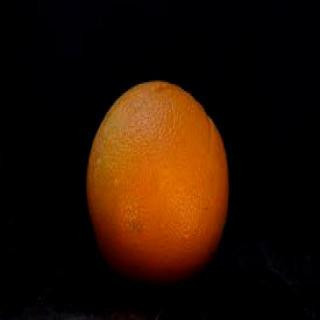orange: (80, 73, 241, 303)
